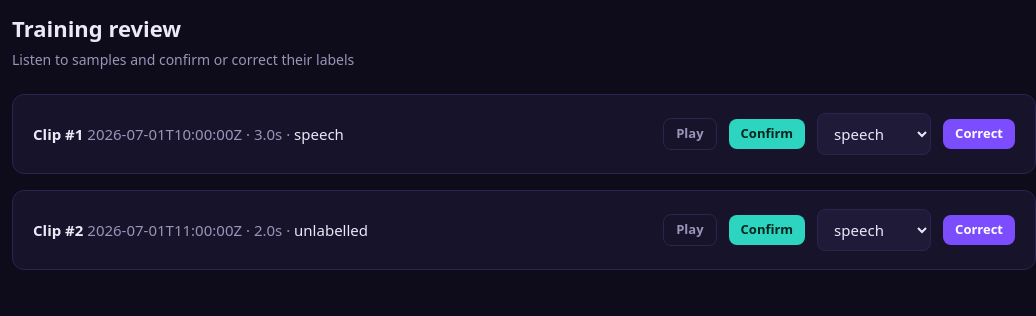
Scenario: training review › shows the API error when the label submit fails
Click the button "Confirm" in the row of "speech": (767, 134) [729,119,805,149]
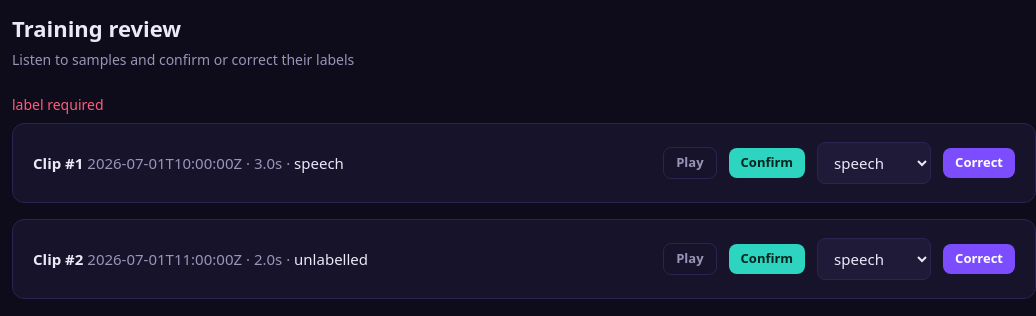
Expected: the message reads "label required", [12,95,104,114]
